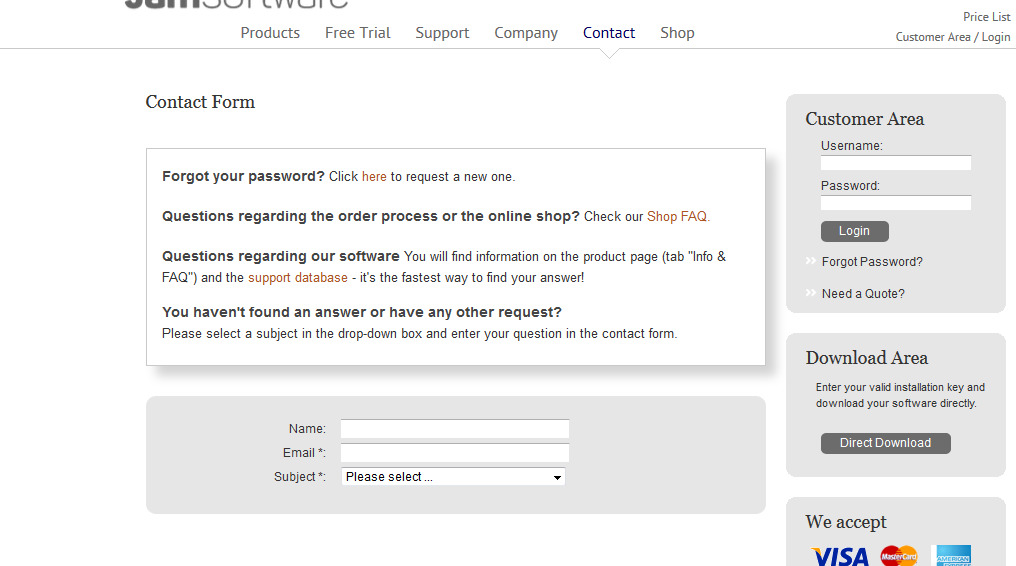_form_: (229, 353, 611, 555), (773, 93, 1005, 276), (780, 313, 1012, 496)
button: (820, 431, 952, 456), (819, 219, 892, 244)
field: (334, 442, 573, 464), (335, 418, 573, 440), (339, 466, 570, 488), (818, 153, 974, 171), (819, 194, 973, 211)
field_with_label: (274, 464, 572, 490), (284, 441, 574, 466), (290, 416, 574, 441), (816, 139, 976, 173), (817, 180, 975, 214)
